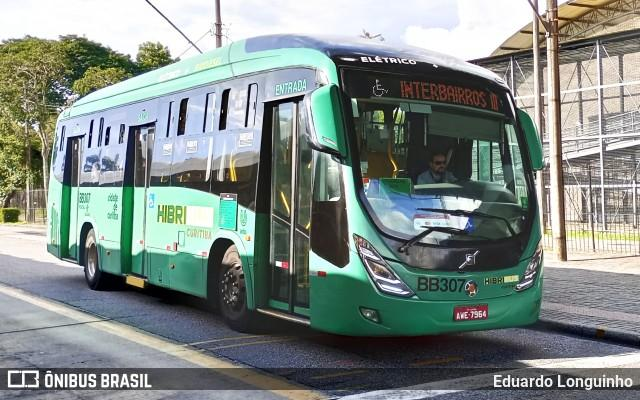INTERBAIRROS III: (397, 77, 502, 116)
